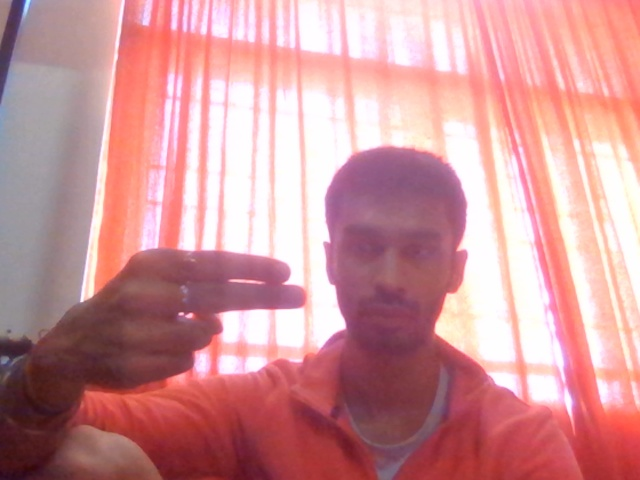H: (15, 213, 316, 429)
